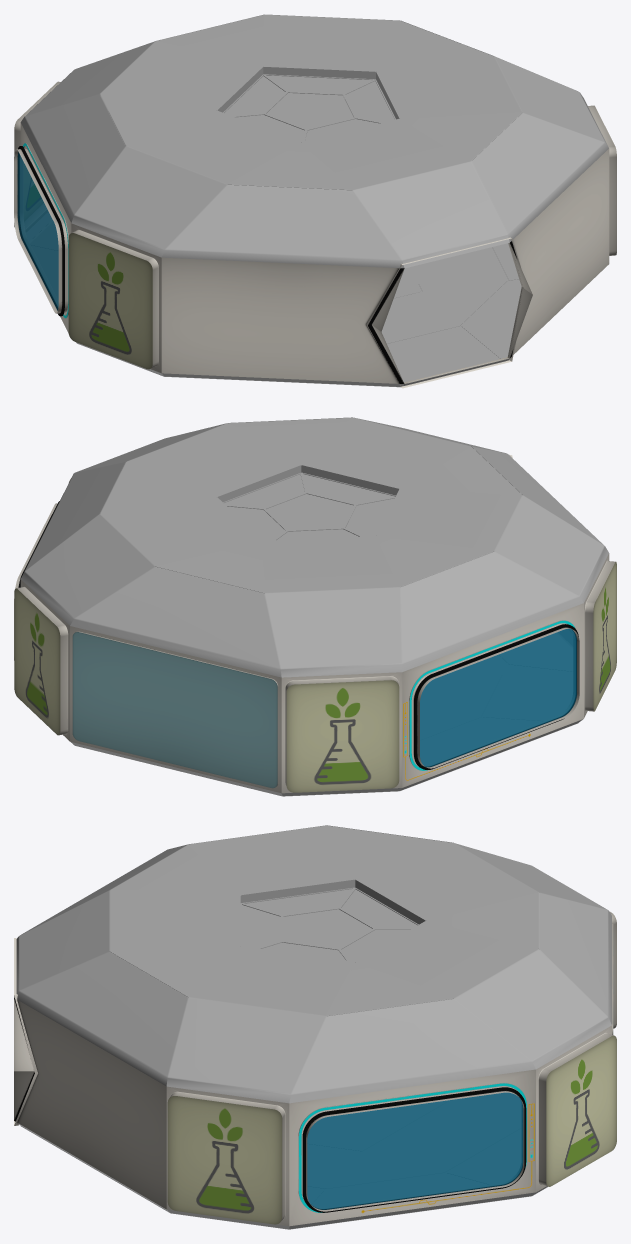
The model's file is Lab_Center_Hall.fbx.
3 views of the same model, one above another, from view 1: azimuth 30°, elevation 25°; view 2: azimuth 150°, elevation 25°; view 3: azimuth 270°, elevation 25° (orthographic). The views are drawn at different scales.
Visible parts, largest first — view 1: Roof, Wall, Floor; view 2: Roof, Wall, Floor; view 3: Roof, Wall, Floor.
Part boxes in pixels (left/top/right/bottom): Roof: left=20, top=14, right=608, bottom=268; Wall: left=14, top=81, right=616, bottom=388; Floor: left=26, top=212, right=521, bottom=387; Roof: left=21, top=417, right=608, bottom=677; Wall: left=14, top=454, right=616, bottom=793; Floor: left=71, top=629, right=582, bottom=796; Roof: left=14, top=825, right=611, bottom=1103; Wall: left=14, top=911, right=616, bottom=1226; Floor: left=15, top=1093, right=547, bottom=1229.
Bounding box in the file's own units: 2032 × 626 × 1903.
